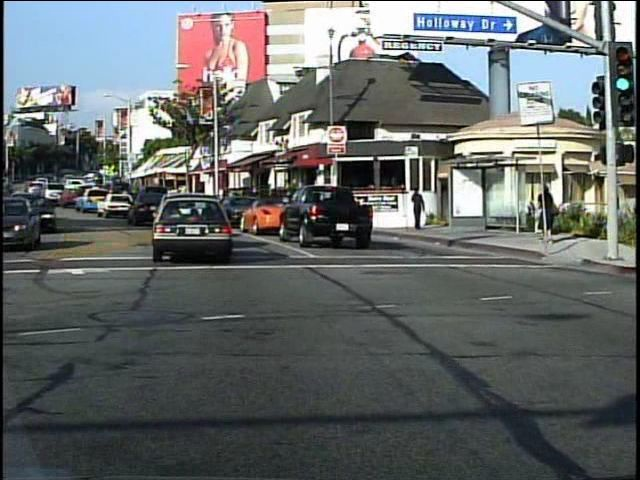person: (536, 181, 562, 249), (410, 186, 428, 235)
